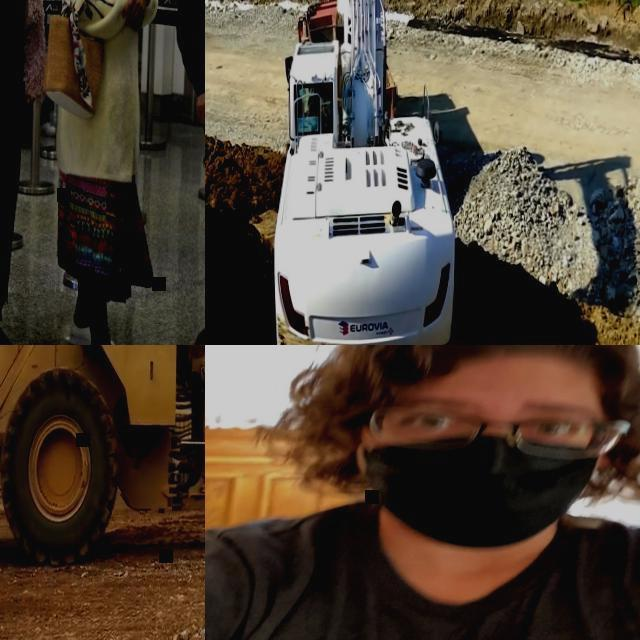machinery: (274, 0, 462, 345), (0, 345, 205, 566)
mask: (353, 435, 606, 547)
no_helmet: (329, 345, 640, 398)
no_vest: (205, 499, 640, 640), (69, 0, 143, 75)
person: (205, 345, 640, 640), (56, 0, 162, 345)
